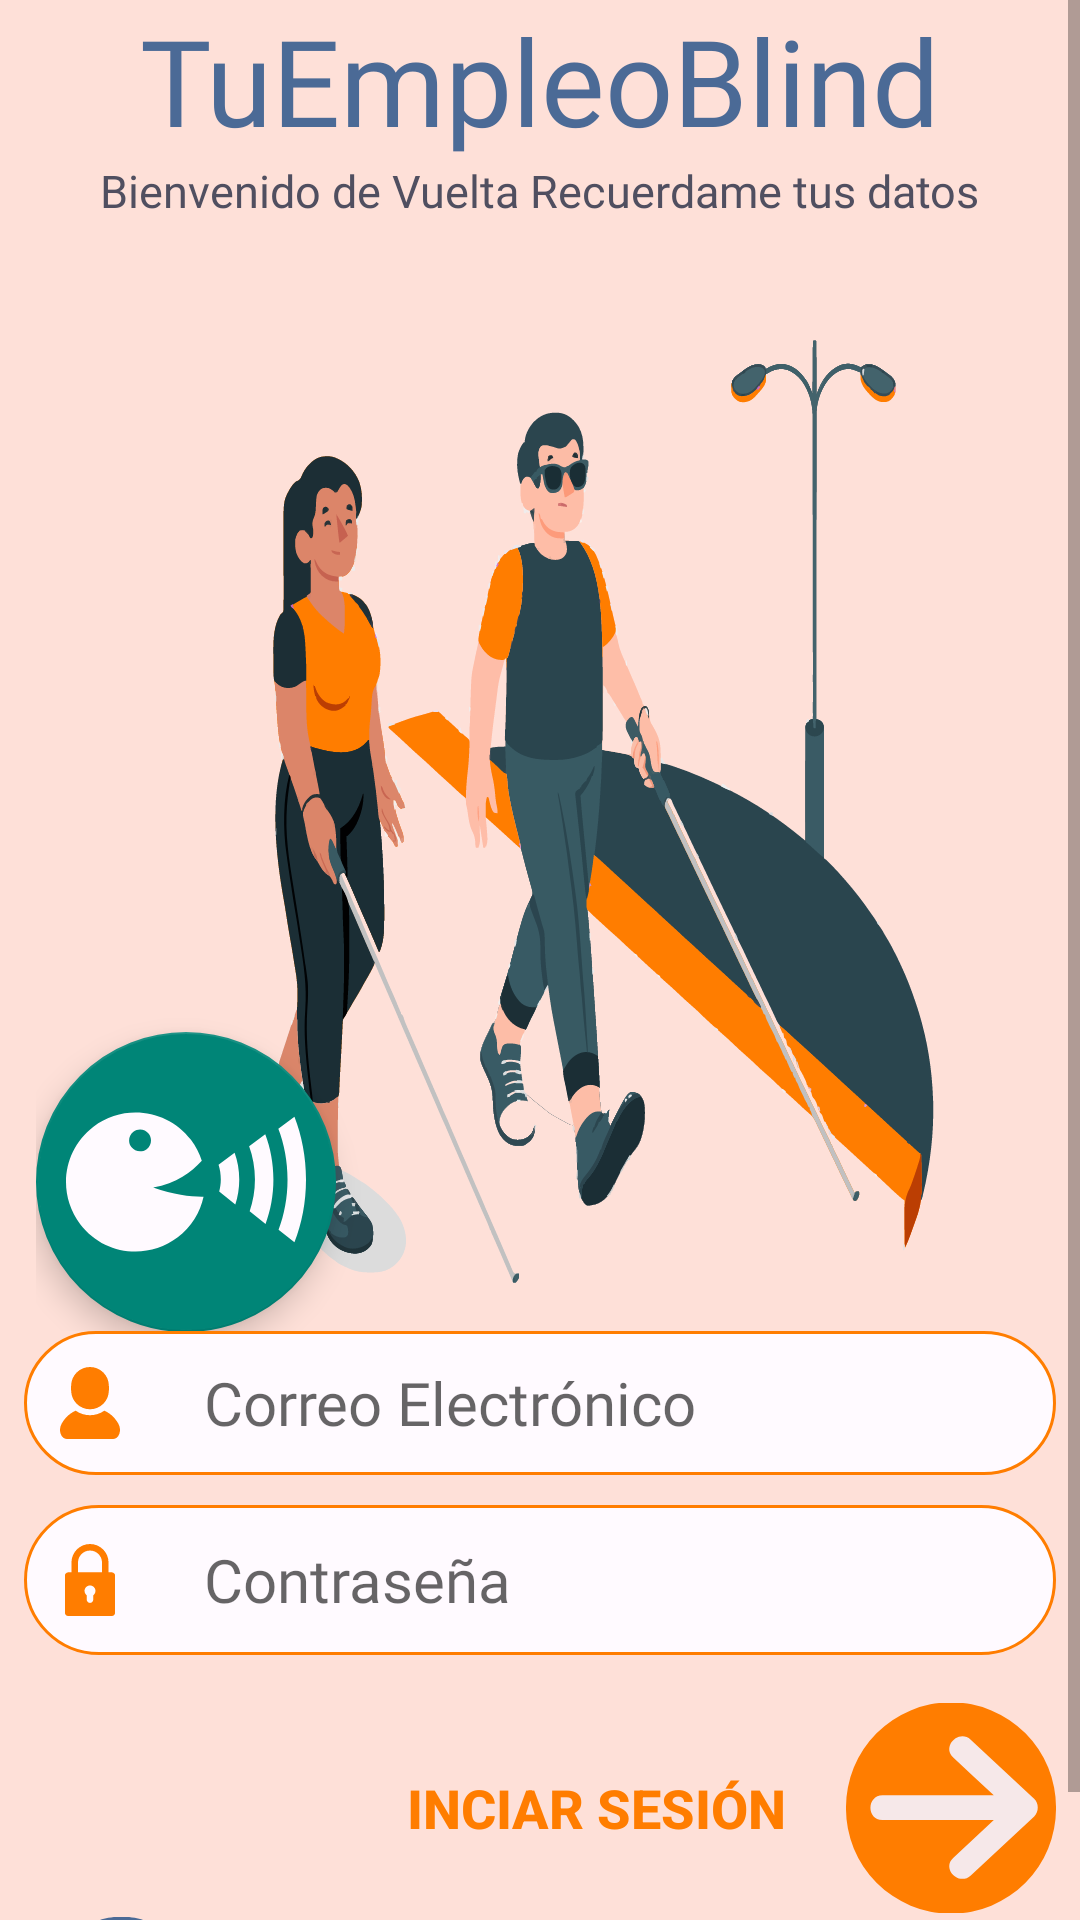

Screen size 1080 x 1920. Icon name, then its center in pixels as [x,y]:
Activar comandos de voz: [186,1181]
